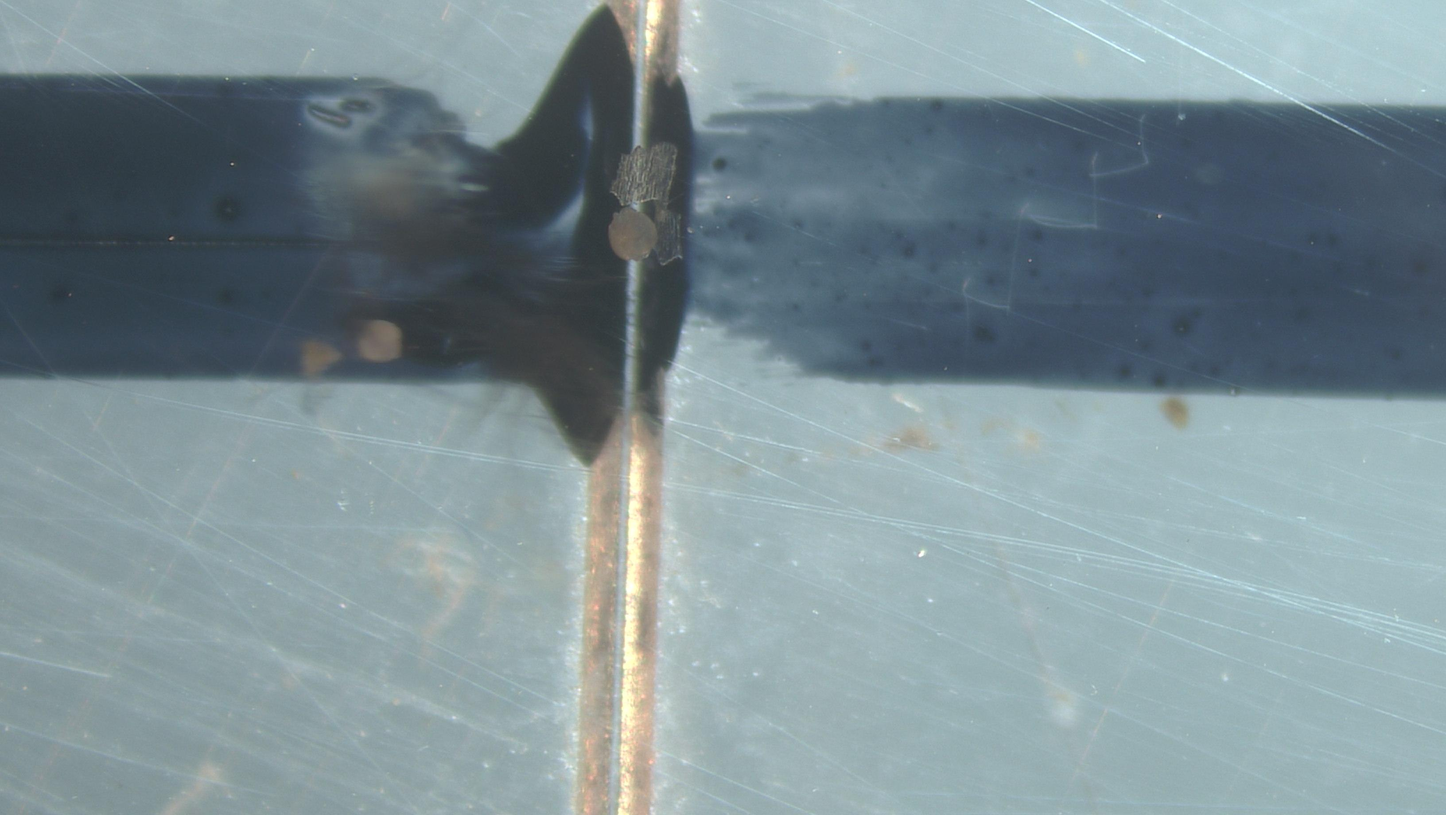live: (609, 207, 657, 261)
